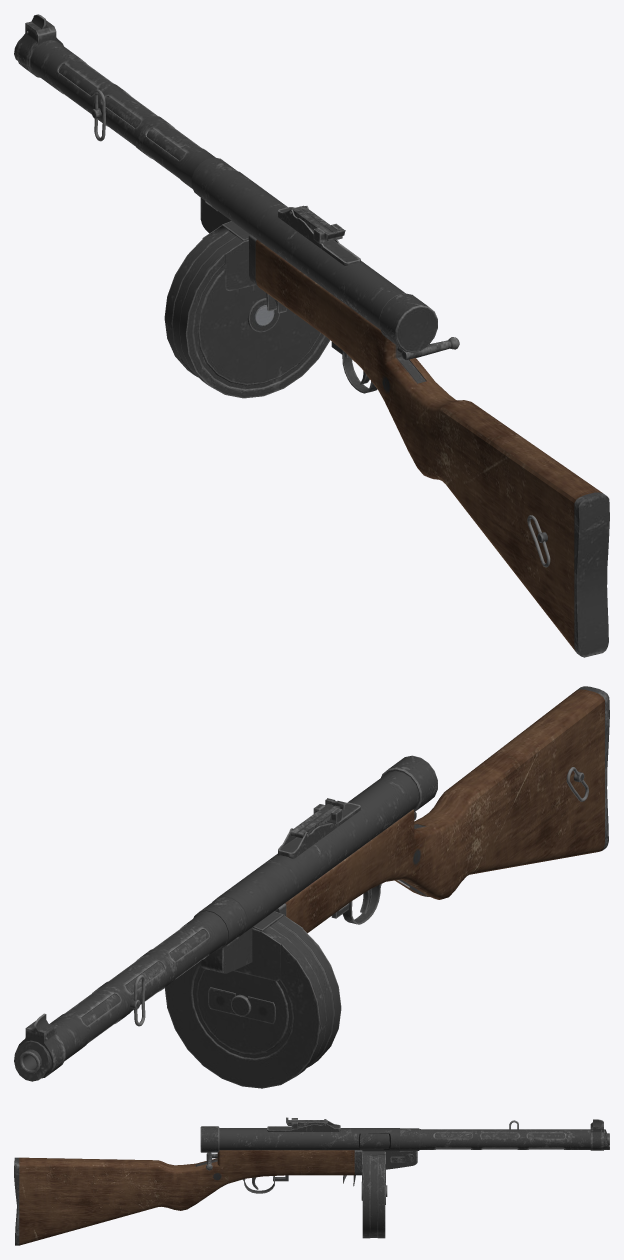
File: cc0-guns-explosives-pack-glb--suomi-kp.glb
3 renders of one model, top to bottom at view 1: azimuth 30°, elevation 25°; view 2: azimuth 150°, elevation 25°; view 3: azimuth 270°, elevation 25°, orthographic. The views are drawn at different scales.
Visible parts, largest first — view 1: Body, Magazine; view 2: Body, Magazine; view 3: Body, Magazine, Ejector.
Part boxes in pixels (x1,y1,x2,y2): Body: [14, 14, 609, 657]; Magazine: [164, 221, 330, 398]; Body: [14, 686, 609, 1081]; Magazine: [164, 911, 341, 1088]; Body: [14, 1117, 609, 1245]; Magazine: [361, 1151, 387, 1238]; Ejector: [360, 1133, 389, 1147].
Size of the model in its own units: 0.1387 by 0.2003 by 0.8749.
Materials: 1 (1 with a texture image).
